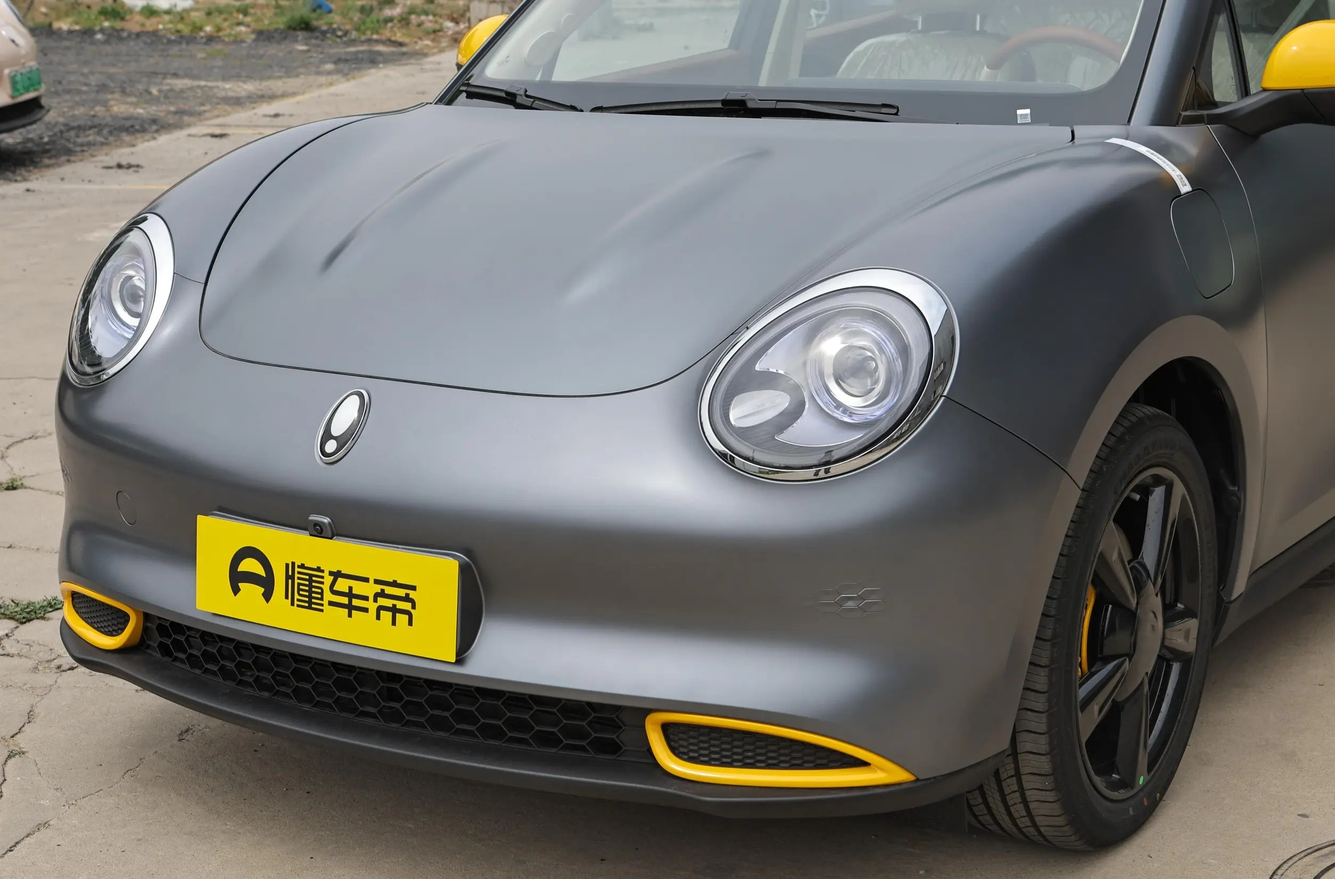ORA: (318, 389, 369, 462)
